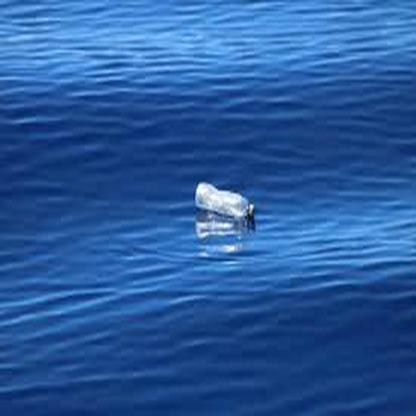plastic bottle: (193, 182, 256, 220)
